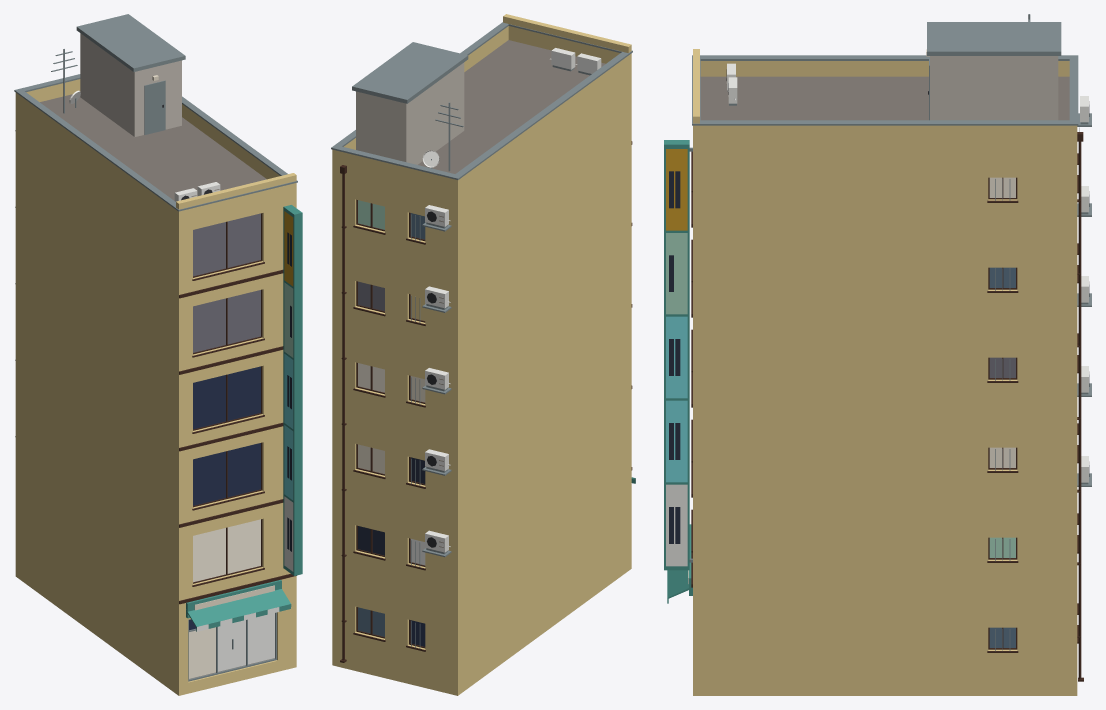
The model's file is tb_pencil_building_6f_01_c.fbx.
The picture shows the model from 3 angles, left to right: view 1: azimuth 30°, elevation 25°; view 2: azimuth 150°, elevation 25°; view 3: azimuth 270°, elevation 25°; orthographic projection. The views are drawn at different scales.
Parts seen in each view (by area): view 1: tb_pencil_building_6f_01_c; view 2: tb_pencil_building_6f_01_c; view 3: tb_pencil_building_6f_01_c.
Boxes of the visible parts, x1=… form: tb_pencil_building_6f_01_c: x1=14, y1=14, x2=302, y2=695; tb_pencil_building_6f_01_c: x1=331, y1=14, x2=635, y2=695; tb_pencil_building_6f_01_c: x1=664, y1=14, x2=1091, y2=695.
Size of what is drawn, in the model's own units: 5.09 by 21.95 by 13.35.
Materials: 3 (3 with a texture image).
